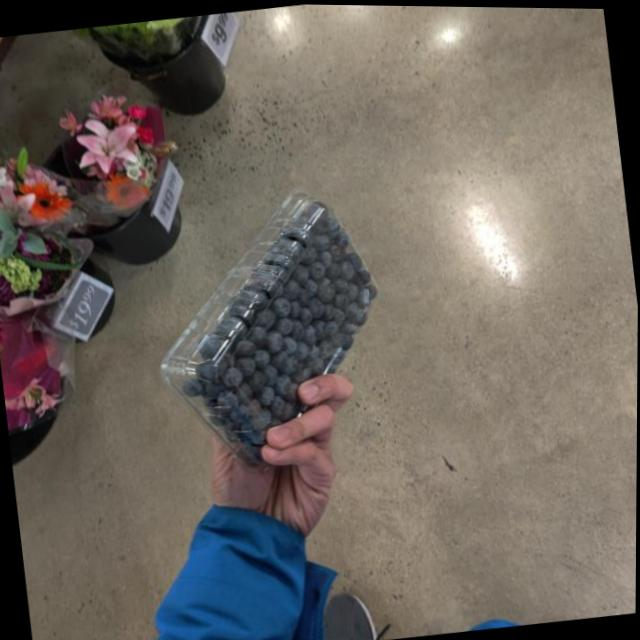Blueberries: (145, 185, 425, 453)
